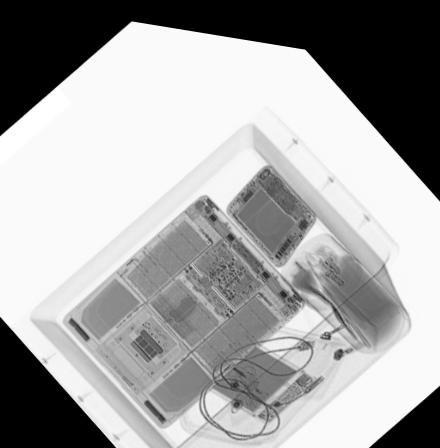Powerbank: (211, 333, 319, 415)
